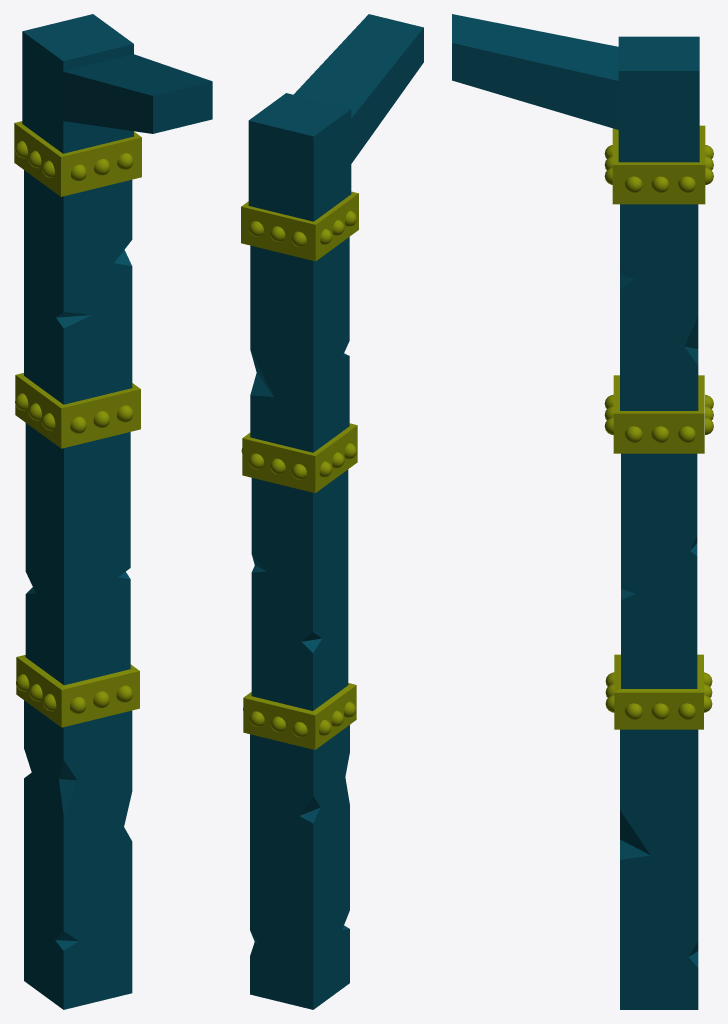
Rendered from pilier.fbx.
3 renders of one model, left to right at view 1: azimuth 30°, elevation 25°; view 2: azimuth 150°, elevation 25°; view 3: azimuth 270°, elevation 25°, orthographic. The views are drawn at different scales.
Parts seen in each view (by area): view 1: pilier; view 2: pilier; view 3: pilier.
Part boxes in pixels (<box>): pilier: <box>14,14,212,1009</box>; pilier: <box>241,14,423,1009</box>; pilier: <box>452,14,713,1009</box>.
Size of the model in its own units: 115 by 1117 by 275.
